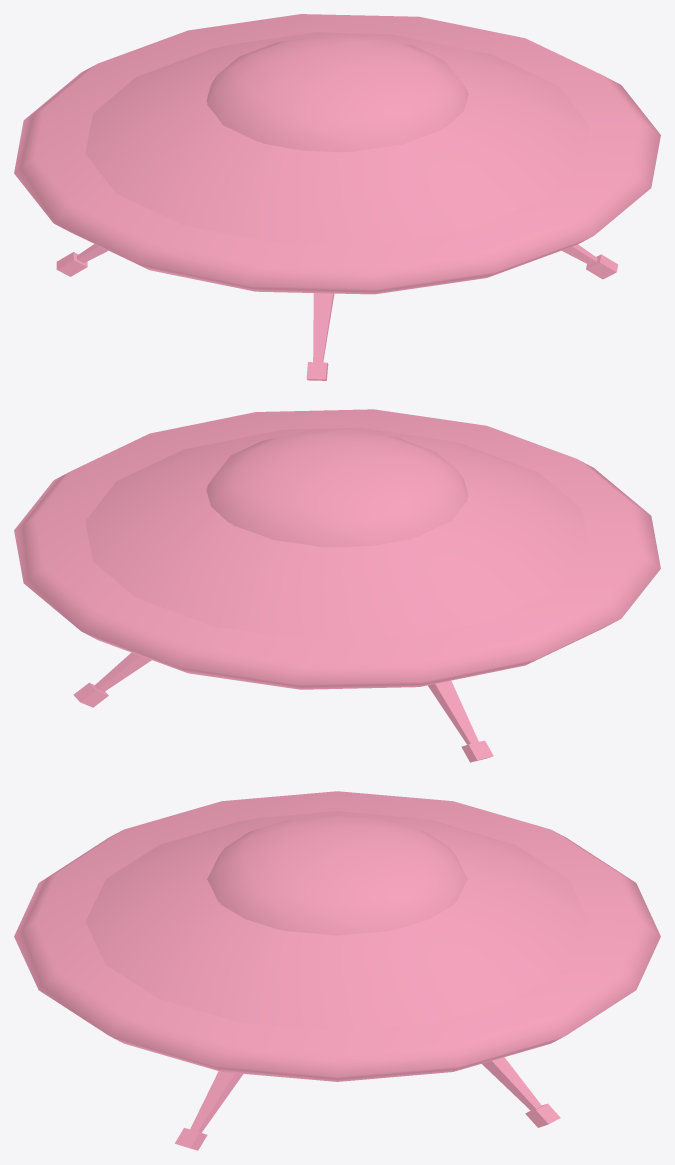
3 renders of one model, top to bottom at view 1: azimuth 30°, elevation 25°; view 2: azimuth 150°, elevation 25°; view 3: azimuth 270°, elevation 25°, orthographic.
Visible parts, largest first — view 1: Mesh.015; view 2: Mesh.015; view 3: Mesh.015.
Boxes of the visible parts, bbox=[...] form: Mesh.015: bbox=[14, 14, 660, 380]; Mesh.015: bbox=[14, 409, 660, 762]; Mesh.015: bbox=[14, 791, 660, 1150].
Size of what is drawn, in the model's own units: 3.66 by 1.27 by 3.57.
Materials: 1 (1 with a texture image).
